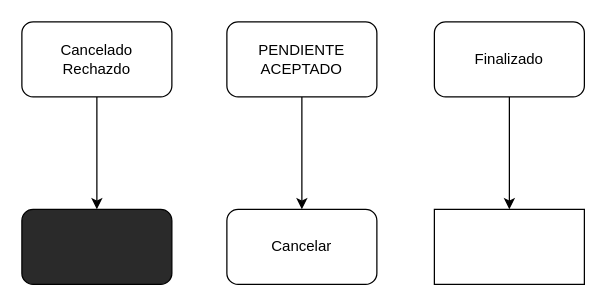
Image size: 606x306. Some labels were removed from this diagram. Here are the shapes that lost their labels. From the top down, the box of each, then its label:
(21, 208, 172, 284): Ver reseña
(433, 208, 584, 284): Encuesta y Calificar
